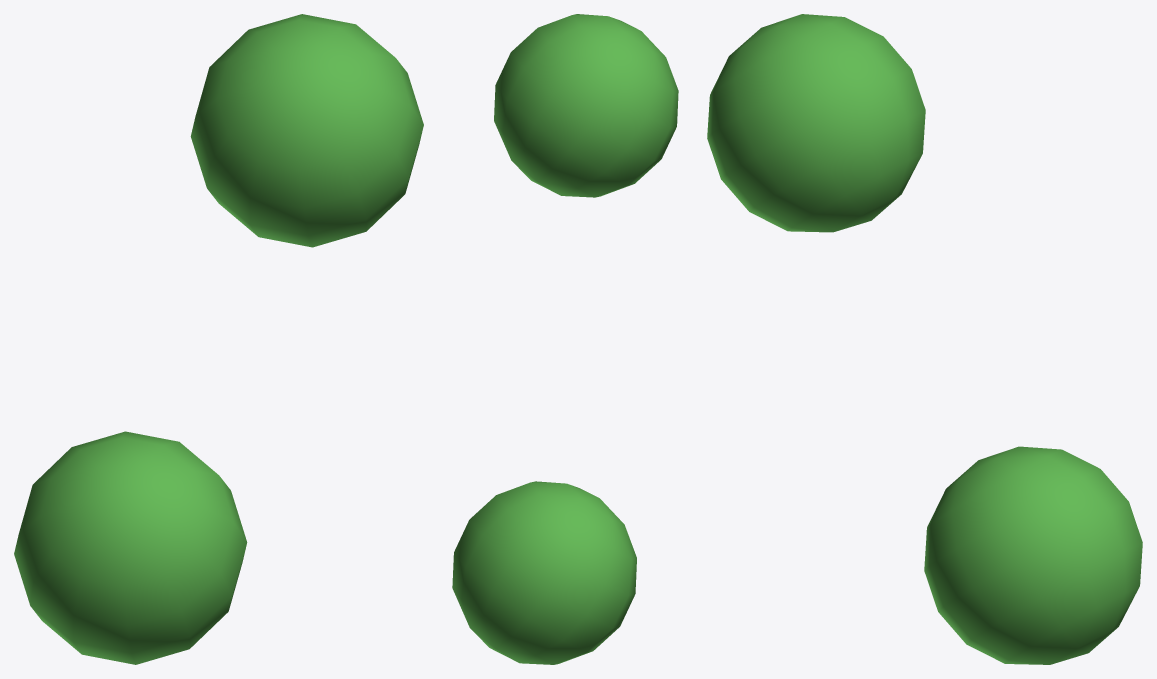
Rendered from linfatico-central-axillary-nodes-r.glb.
The picture shows the model from 3 angles, left to right: view 1: azimuth 30°, elevation 25°; view 2: azimuth 150°, elevation 25°; view 3: azimuth 270°, elevation 25°; orthographic projection. The views are drawn at different scales.
Visible parts, largest first — view 1: Central axillary nodes.r; view 2: Central axillary nodes.r; view 3: Central axillary nodes.r.
Part boxes in pixels (x1,y1,x2,y2): Central axillary nodes.r: (14,14,423,664); Central axillary nodes.r: (452,14,678,664); Central axillary nodes.r: (707,14,1142,664).
Size of the model in its own units: 0.00339 by 0.00853 by 0.00509.
